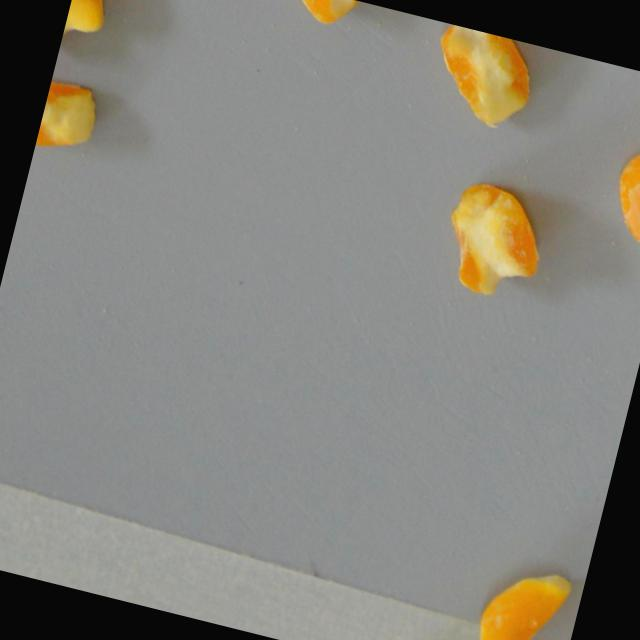estandar: (474, 557, 574, 640)
pelicula: (433, 176, 555, 305), (420, 21, 543, 136), (32, 77, 105, 164), (602, 131, 640, 250), (54, 0, 109, 73), (264, 0, 361, 32)
